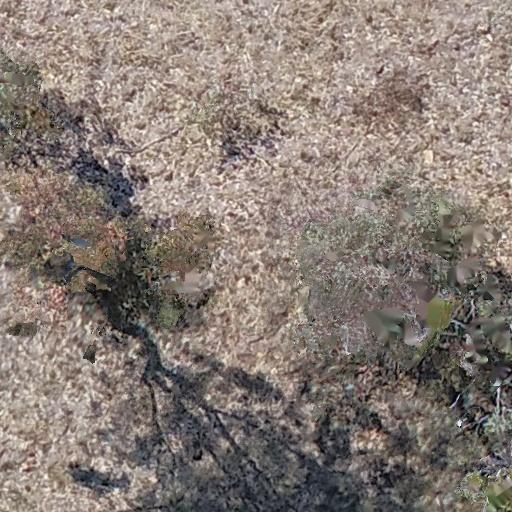stone: (476, 23, 491, 36), (122, 88, 135, 100), (161, 168, 172, 182)
